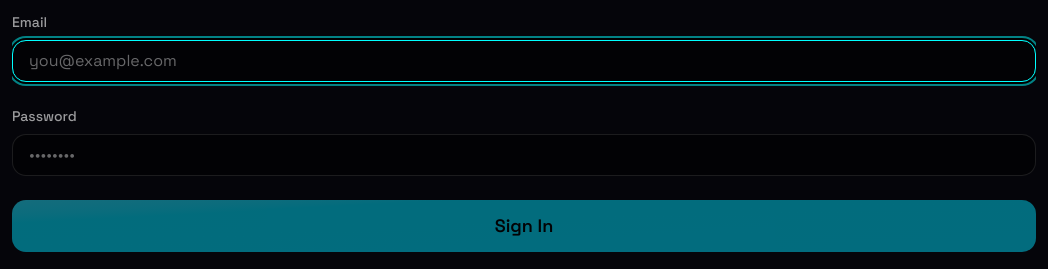
Test case: LoginForm › should enable submit button when fields are filled
Type "test@example.com" into the field with placeholder "you@example.com" at (524, 61), box [12,40,1036,82]
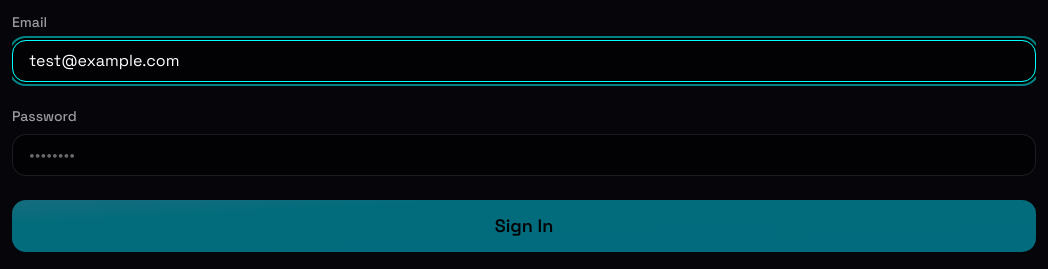
Type "password123" into the password field with placeholder "••••••••" at (524, 155), box [12,134,1036,176]
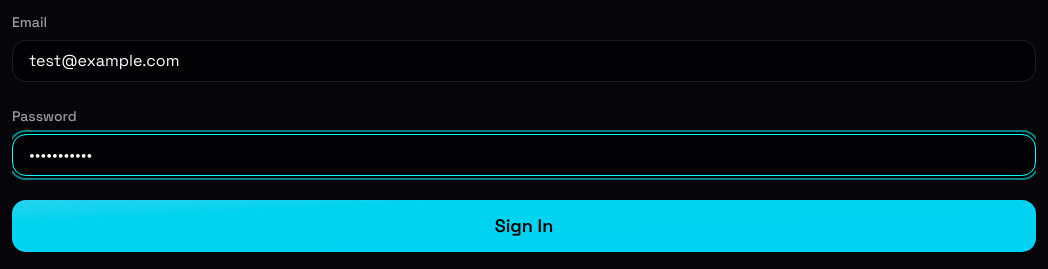
Now the button "Sign In" is enabled, box [12,200,1036,252]
